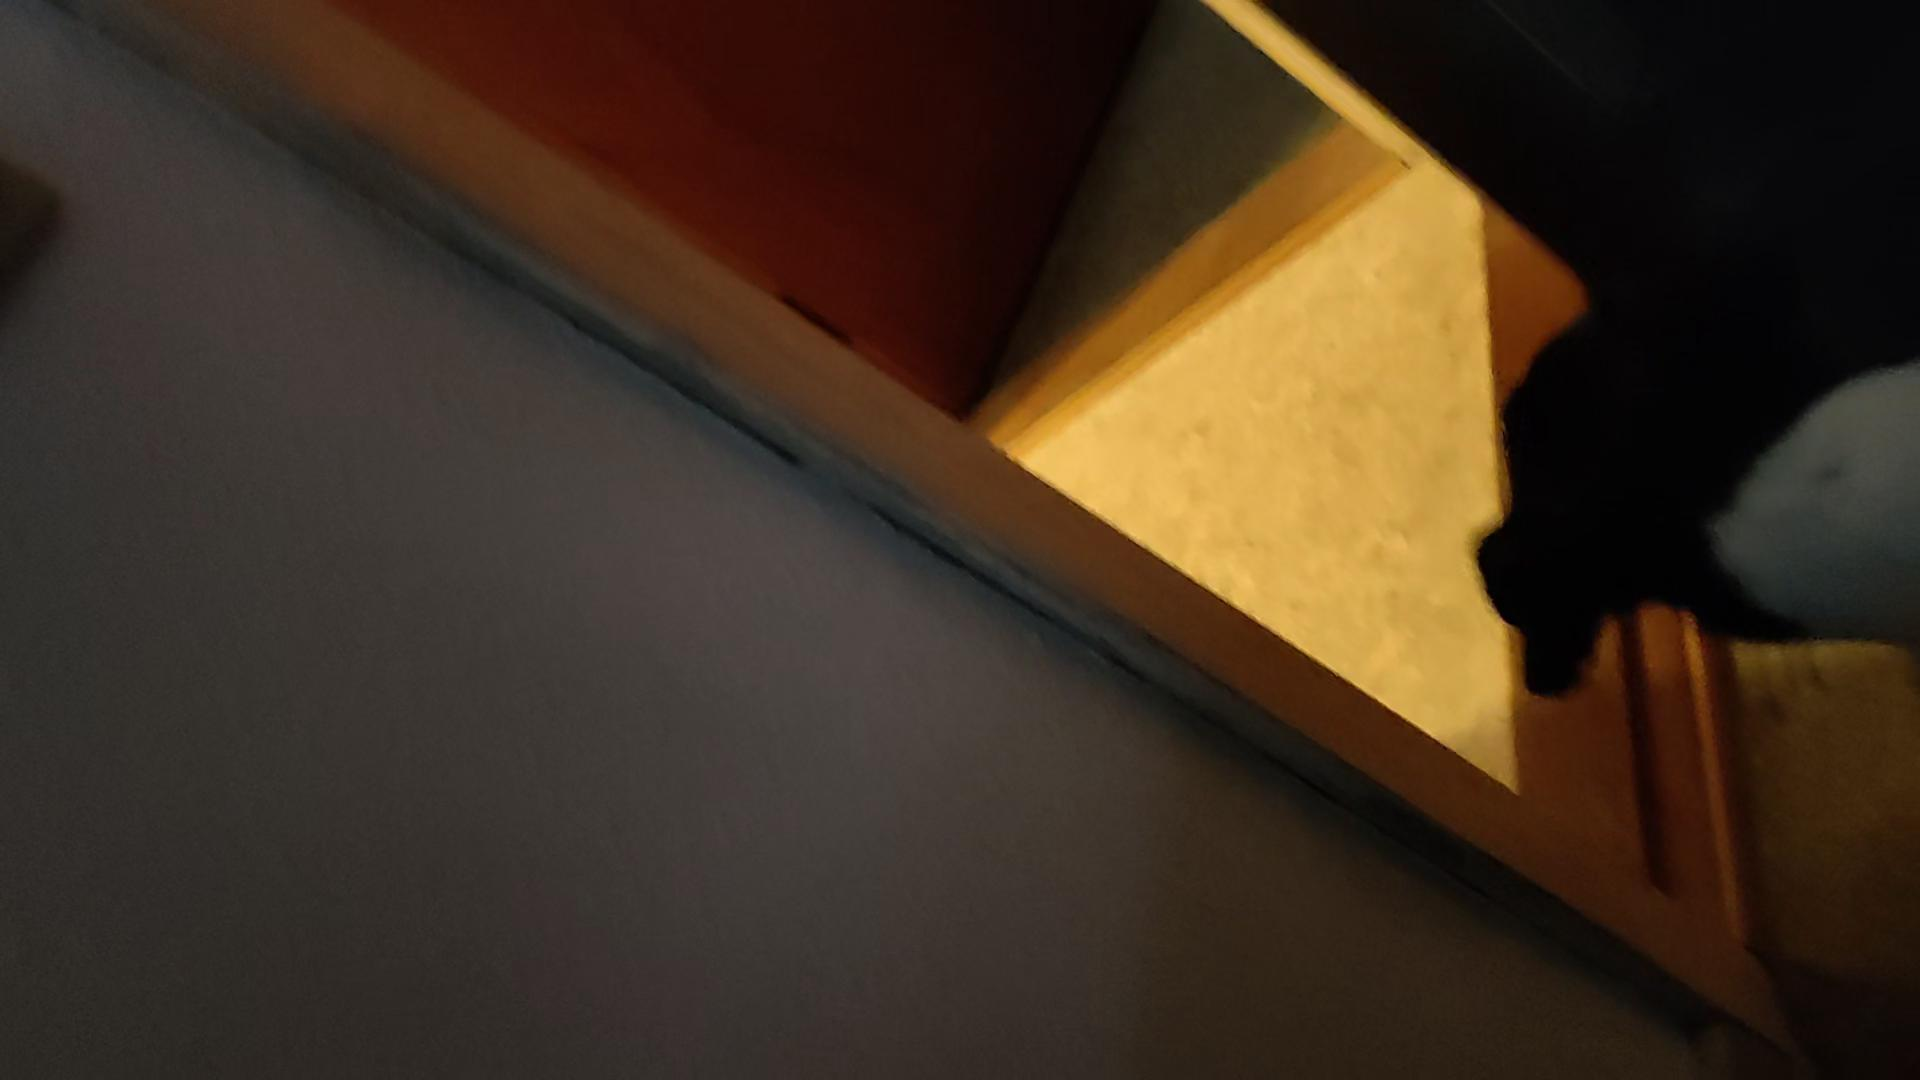Dog: (1447, 208, 1919, 709)
